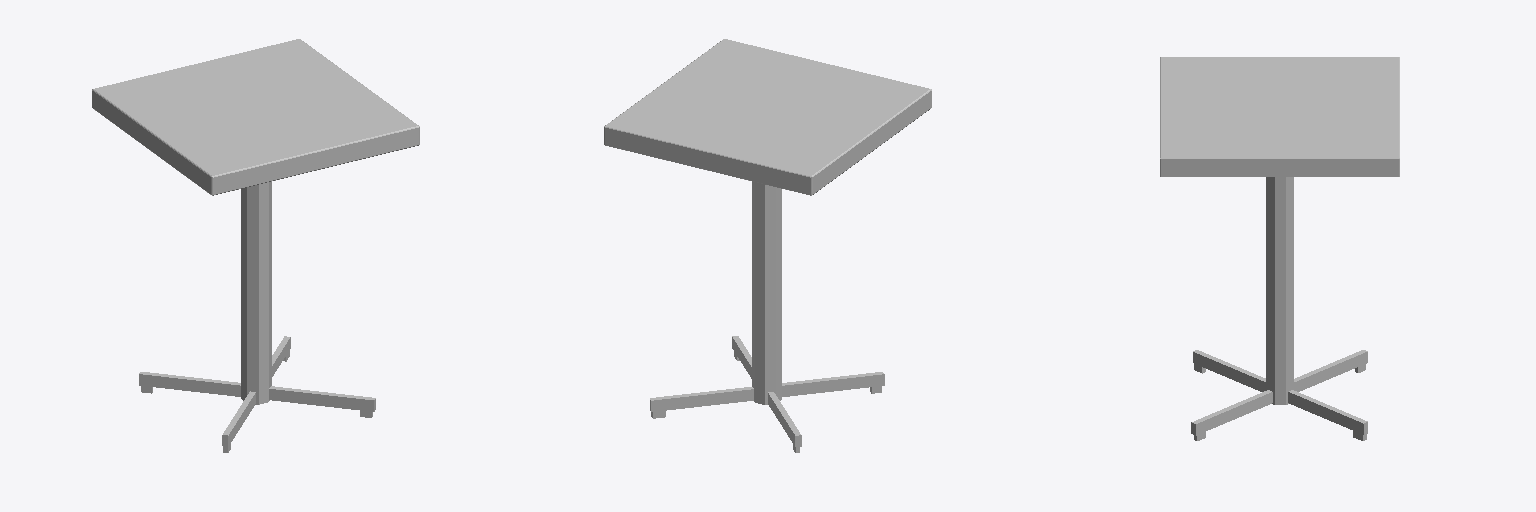
The model's file is cafetable_01.obj.
3 renders of one model, left to right at view 1: azimuth 30°, elevation 25°; view 2: azimuth 150°, elevation 25°; view 3: azimuth 270°, elevation 25°, orthographic.
Visible parts, largest first — view 1: cafetable_01_Mesh.001; view 2: cafetable_01_Mesh.001; view 3: cafetable_01_Mesh.001.
Part boxes in pixels (bbox=[...]): cafetable_01_Mesh.001: bbox=[92, 39, 419, 452]; cafetable_01_Mesh.001: bbox=[604, 39, 931, 452]; cafetable_01_Mesh.001: bbox=[1160, 57, 1399, 440].
Bounding box in the file's own units: 0.55 × 0.7496 × 0.55.